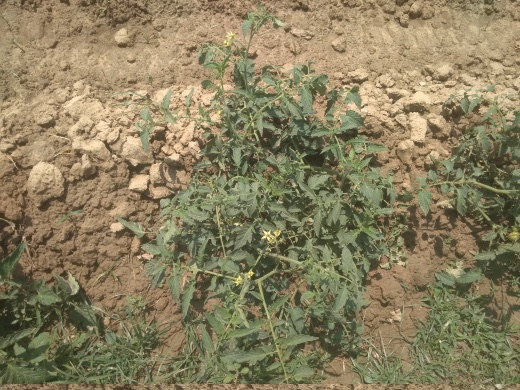tomato flower: (230, 266, 259, 290), (258, 227, 281, 244)
tomato plant: (204, 92, 362, 338)
